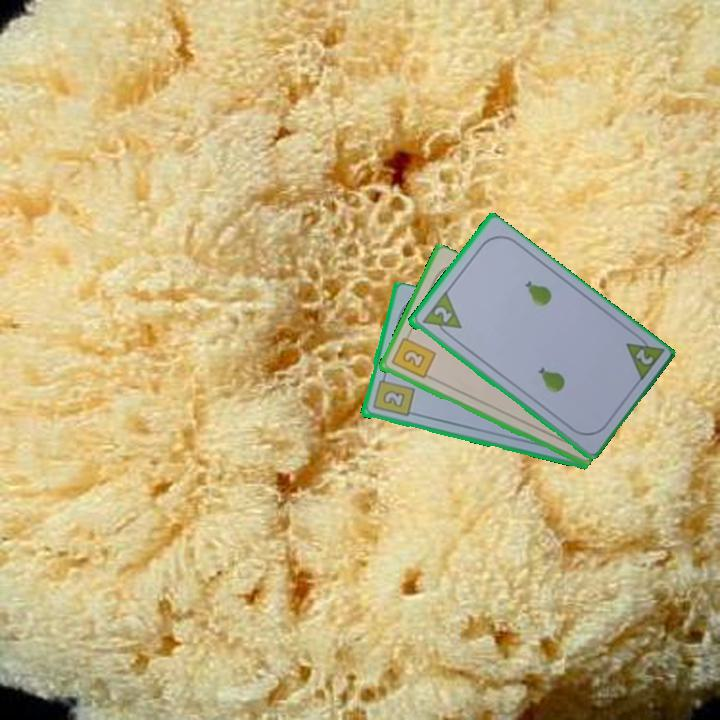2b: (387, 330, 438, 382), (369, 371, 416, 420)
2p: (621, 329, 666, 385), (418, 289, 464, 342)
